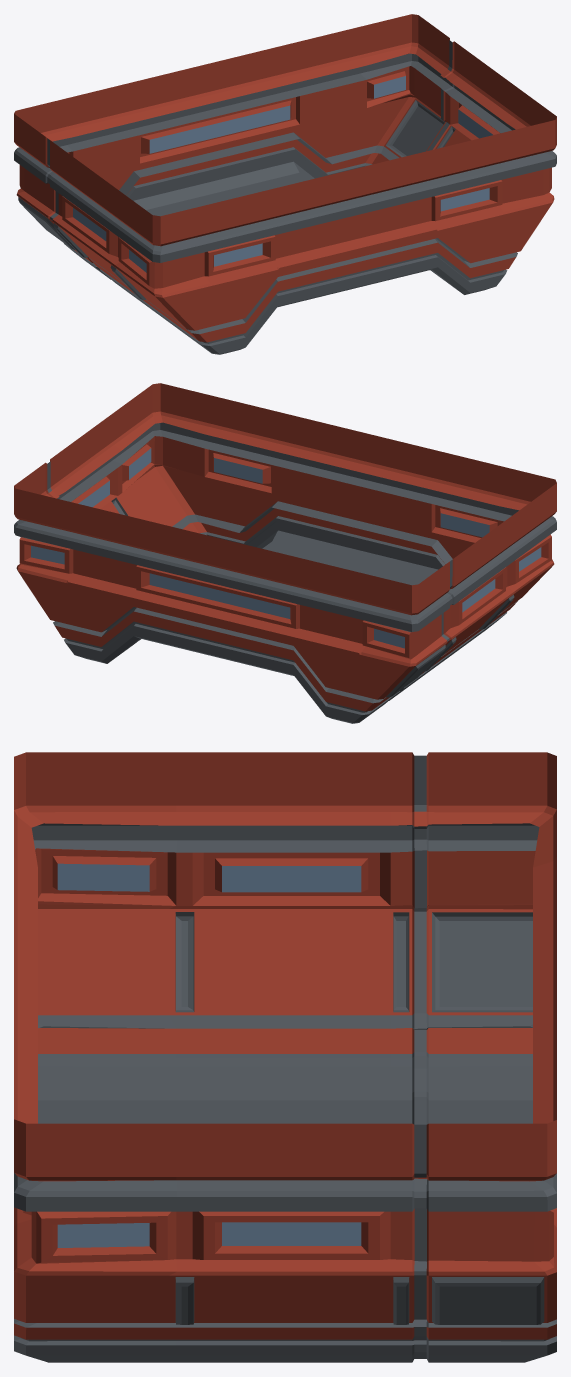
File: Dropship_05_Storage_Compartment_Red.fbx
3 renders of one model, top to bottom at view 1: azimuth 30°, elevation 25°; view 2: azimuth 150°, elevation 25°; view 3: azimuth 270°, elevation 25°, orthographic. The views are drawn at different scales.
Visible parts, largest first — view 1: Dropship_05_Storage_Compartment_Red; view 2: Dropship_05_Storage_Compartment_Red; view 3: Dropship_05_Storage_Compartment_Red.
Part boxes in pixels (bbox=[...]): Dropship_05_Storage_Compartment_Red: bbox=[14, 14, 556, 354]; Dropship_05_Storage_Compartment_Red: bbox=[14, 383, 556, 723]; Dropship_05_Storage_Compartment_Red: bbox=[14, 752, 556, 1362].
Size of the model in its own units: 347 by 130 by 215.
2 materials, 2 textured.
